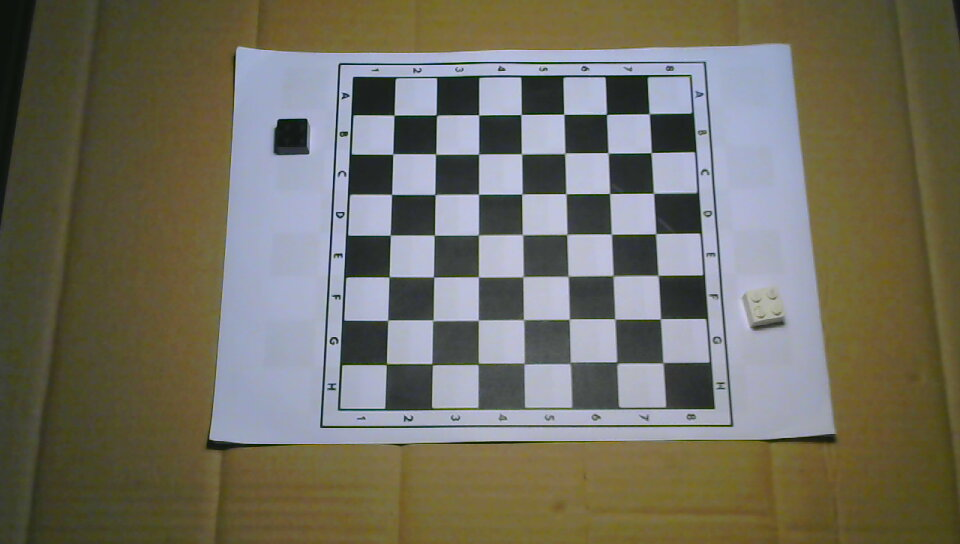bp: (275, 116, 310, 155)
wp: (741, 286, 786, 328)
